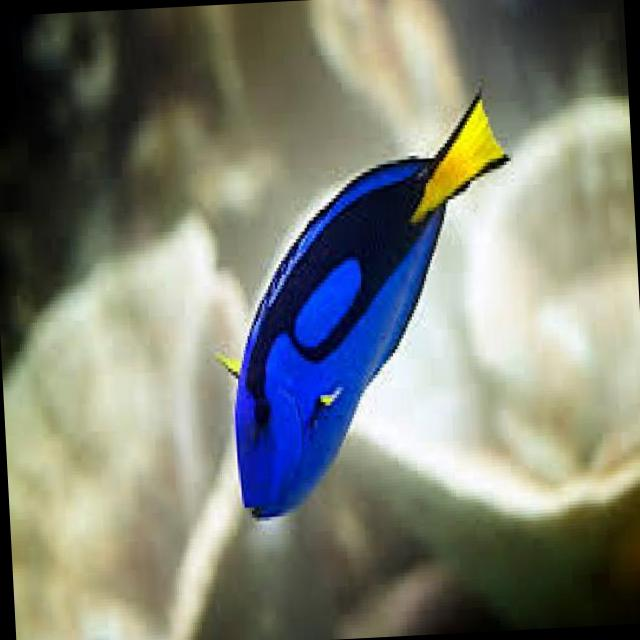TangFish: (202, 89, 535, 526)
